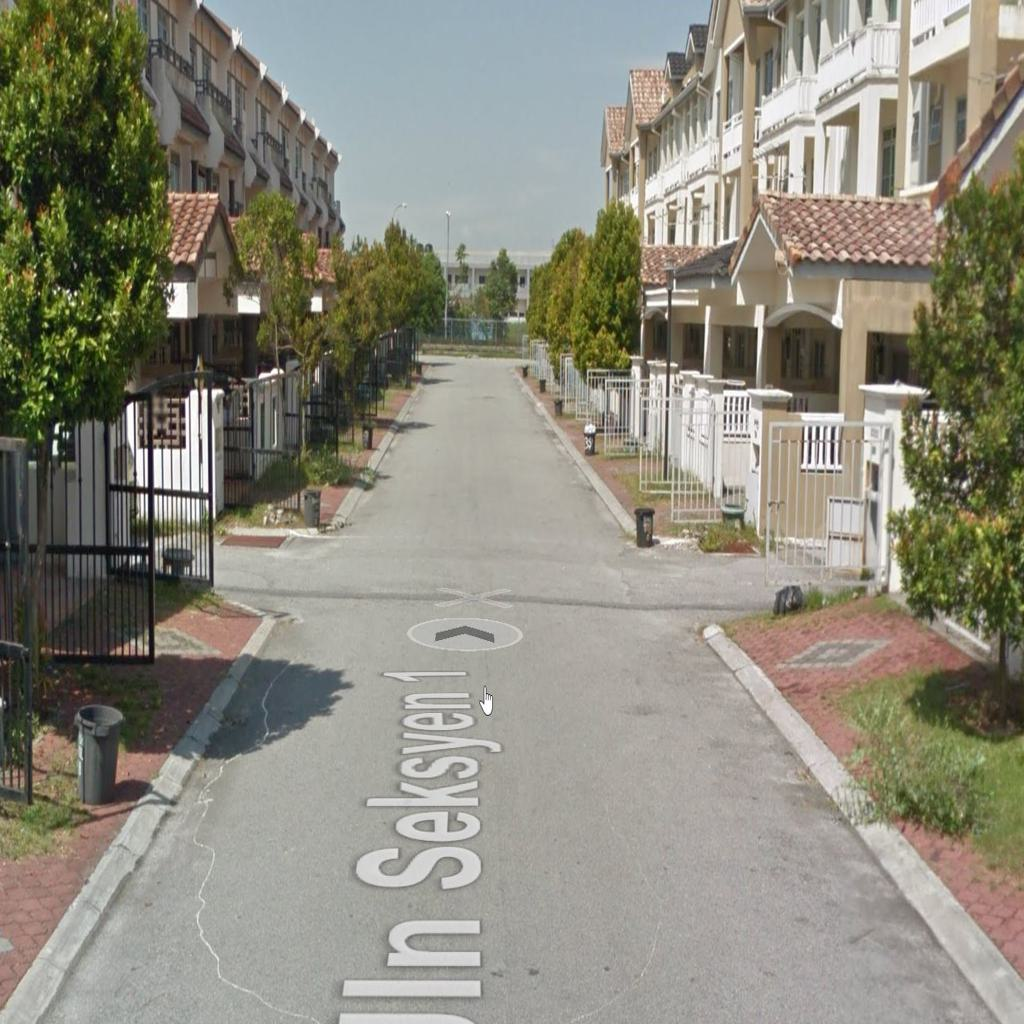Junction: (606, 480, 864, 648), (155, 500, 346, 630)
